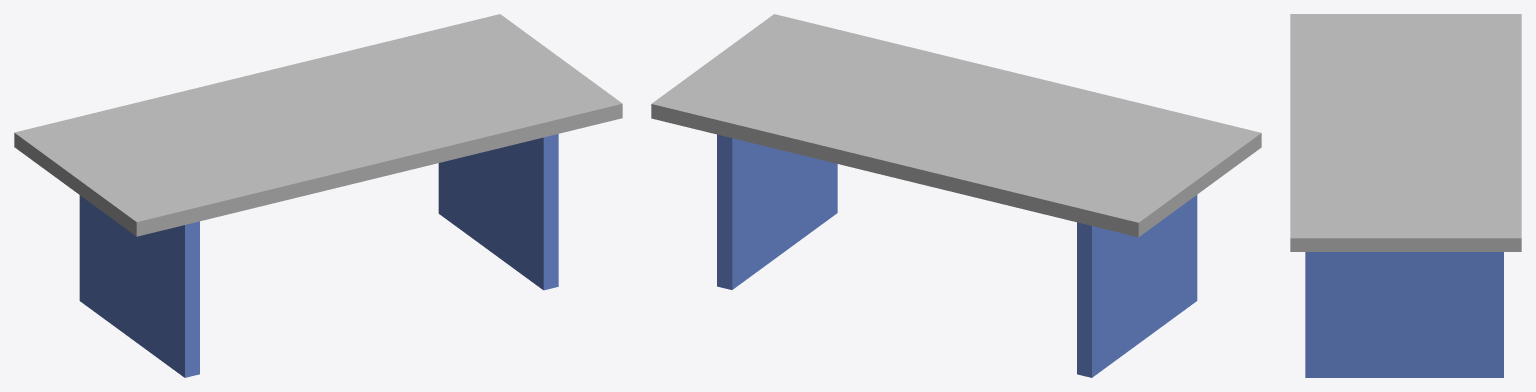
Rendered from Mesa_Grande.fbx.
3 renders of one model, left to right at view 1: azimuth 30°, elevation 25°; view 2: azimuth 150°, elevation 25°; view 3: azimuth 270°, elevation 25°, orthographic. The views are drawn at different scales.
Parts seen in each view (by area): view 1: Cubo.013; view 2: Cubo.013; view 3: Cubo.013.
Part boxes in pixels (bbox=[...]): Cubo.013: bbox=[14, 14, 622, 377]; Cubo.013: bbox=[651, 14, 1261, 377]; Cubo.013: bbox=[1290, 14, 1521, 377].
Size of the model in its own units: 340 by 117 by 148.
